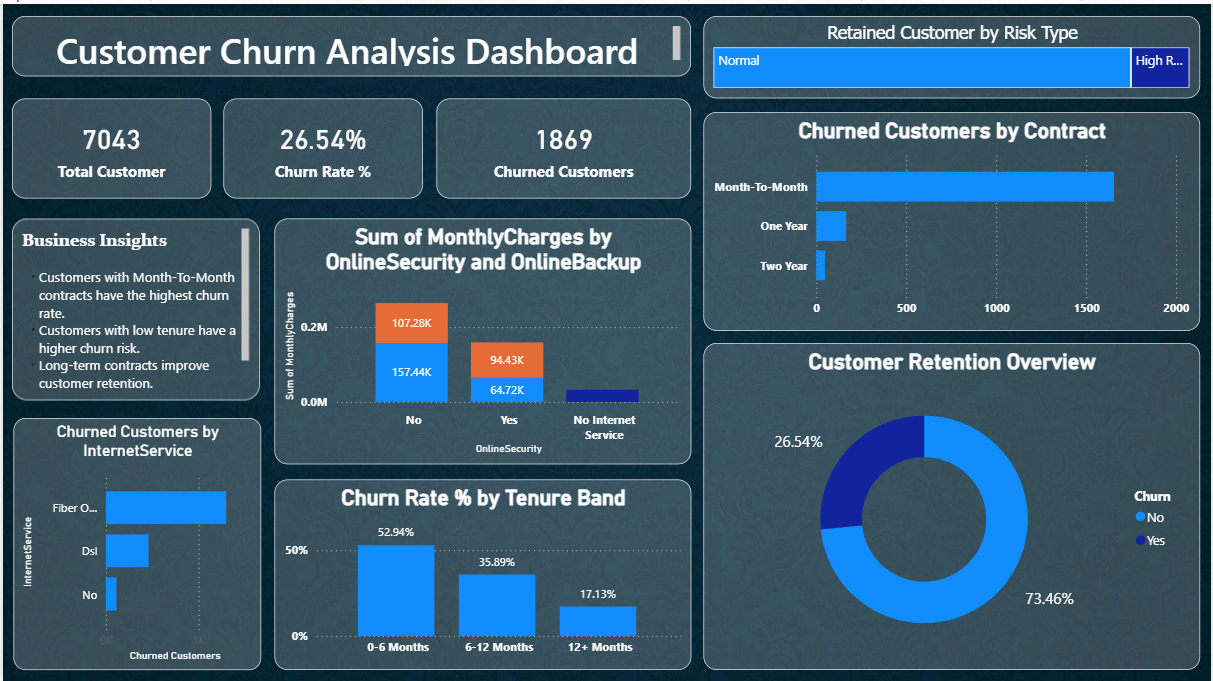

The page's visual inventory and layout, read from the dashboard file:
{"tool":"powerbi","page":{"name":"Page 1","canvas":[1280,720],"ordinal":0},"visuals":[{"type":"textbox","box":[9.4,13.2,720,64.3],"z":0},{"type":"treemap","fields":{"Values":["Calculated Measure.Retained Customer"],"Group":["customer_churn.Risk Type"]},"box":[742.8,12.7,526.5,87.5],"z":1000},{"type":"card","fields":{"Values":["Calculated Measure.Total Customer"]},"box":[9.4,100.2,211.7,105.8],"z":2000},{"type":"card","fields":{"Values":["Calculated Measure.Churn Rate %"]},"box":[234.3,100.2,211.7,105.8],"z":3000},{"type":"card","fields":{"Values":["Calculated Measure.Churned Customers"]},"box":[459.2,100.2,270.2,105.8],"z":4000},{"type":"donutChart","title":"Customer Retention Overview","fields":{"Y":["Calculated Measure.Total Customer"],"Category":["customer_churn.Churn"]},"box":[742.8,359.5,526.5,346.8],"z":5000},{"type":"barChart","fields":{"Category":["customer_churn.Contract"],"Y":["Calculated Measure.Churned Customers"]},"box":[742.8,114.5,526.5,232.2],"z":6000},{"type":"columnChart","fields":{"Category":["customer_churn.OnlineSecurity"],"Y":["Sum(customer_churn.MonthlyCharges)"],"Series":["customer_churn.OnlineBackup"]},"box":[287.2,226.8,442.2,260.8],"z":7000},{"type":"clusteredColumnChart","fields":{"Category":["customer_churn.Tenure Band"],"Y":["Calculated Measure.Churn Rate %"]},"box":[287.2,504.6,442.2,202.2],"z":8000},{"type":"textbox","box":[9.5,227.5,262.5,192.5],"z":9000},{"type":"clusteredBarChart","fields":{"Category":["customer_churn.InternetService"],"Y":["Calculated Measure.Churned Customers"]},"box":[11.1,439,262.5,267.2],"z":10000}]}

Visuals, with their boxes in screenshot pixels (x1, y1, x2, y2), scaled from the page's 1280x720 canvas onto the 1213x681 screenshot:
textbox: region(9, 12, 691, 73)
treemap - Calculated Measure.Retained Customer x customer_churn.Risk Type: region(704, 12, 1203, 95)
card - Calculated Measure.Total Customer: region(9, 95, 210, 195)
card - Calculated Measure.Churn Rate %: region(222, 95, 423, 195)
card - Calculated Measure.Churned Customers: region(435, 95, 691, 195)
"Customer Retention Overview" donutChart: region(704, 340, 1203, 668)
barChart - customer_churn.Contract x Calculated Measure.Churned Customers: region(704, 108, 1203, 328)
columnChart - customer_churn.OnlineSecurity x Sum(customer_churn.MonthlyCharges): region(272, 215, 691, 461)
clusteredColumnChart - customer_churn.Tenure Band x Calculated Measure.Churn Rate %: region(272, 477, 691, 669)
textbox: region(9, 215, 258, 397)
clusteredBarChart - customer_churn.InternetService x Calculated Measure.Churned Customers: region(11, 415, 259, 668)
